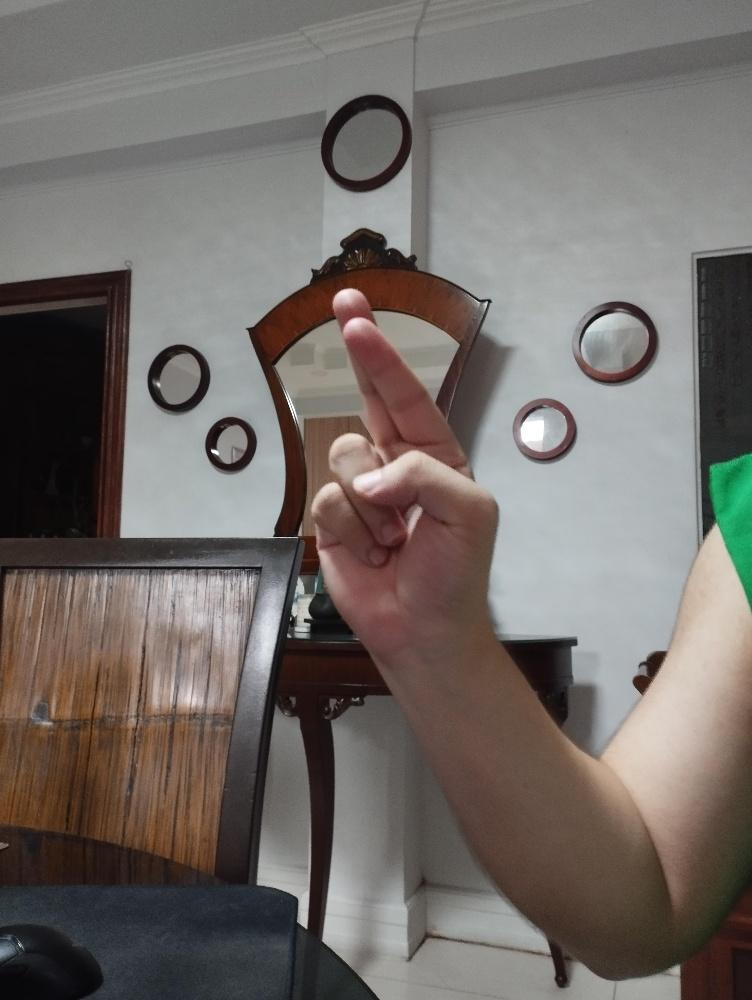r: (305, 284, 504, 653)
